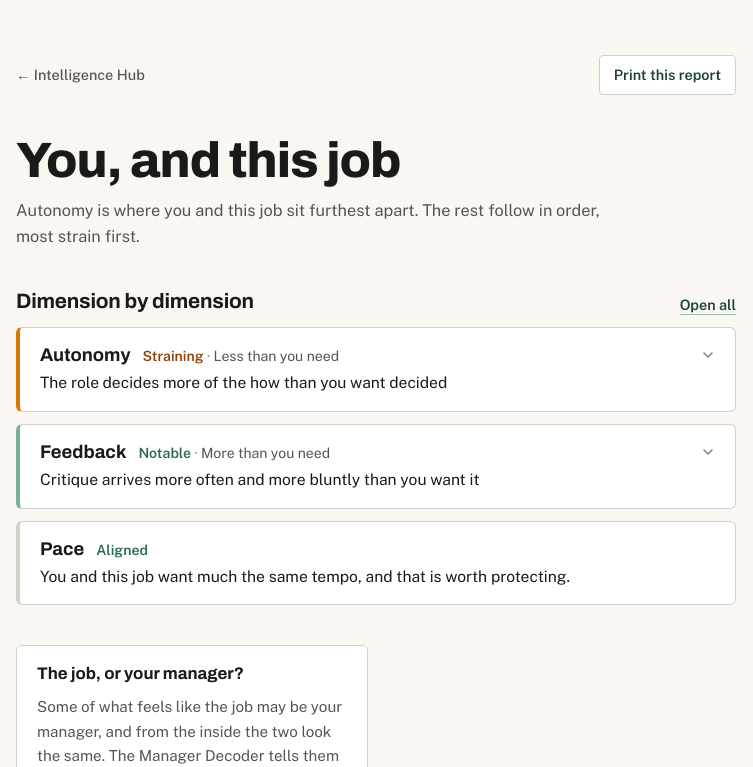
Test: SituationReportPage › complete › routes the manager links to the profile flow when there is no profile yet
Check: the heading "You, and this job" is shown, box [16,133,400,187]
Click the button named "Show guidance for" in the row of "Less than you need": (378, 370) [20,328,735,411]
(page scrolled)
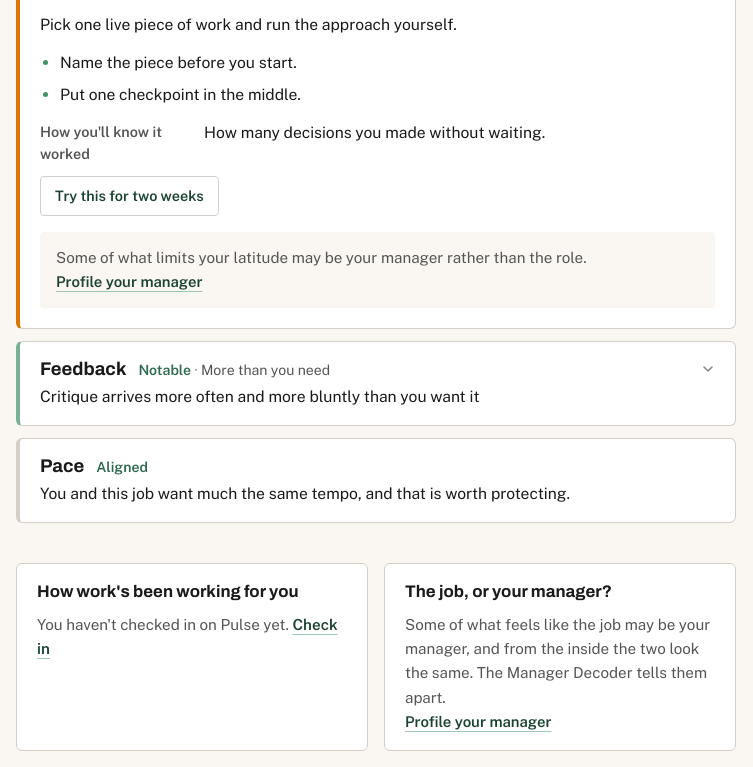
Click the button named "Show guidance for": (378, 384) [20,342,735,425]
(page scrolled)
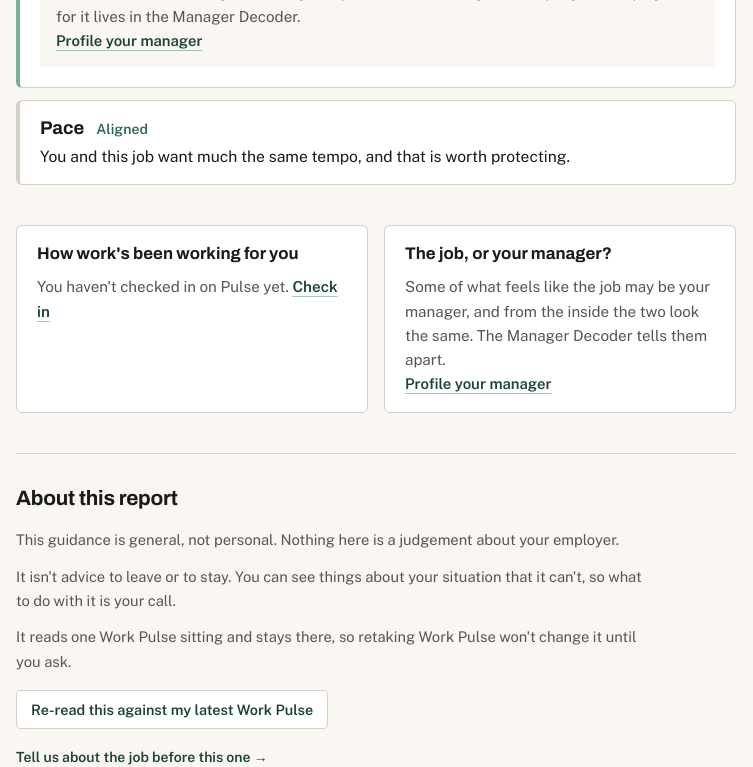
Check: the number of links "Profile your manager" is 3
